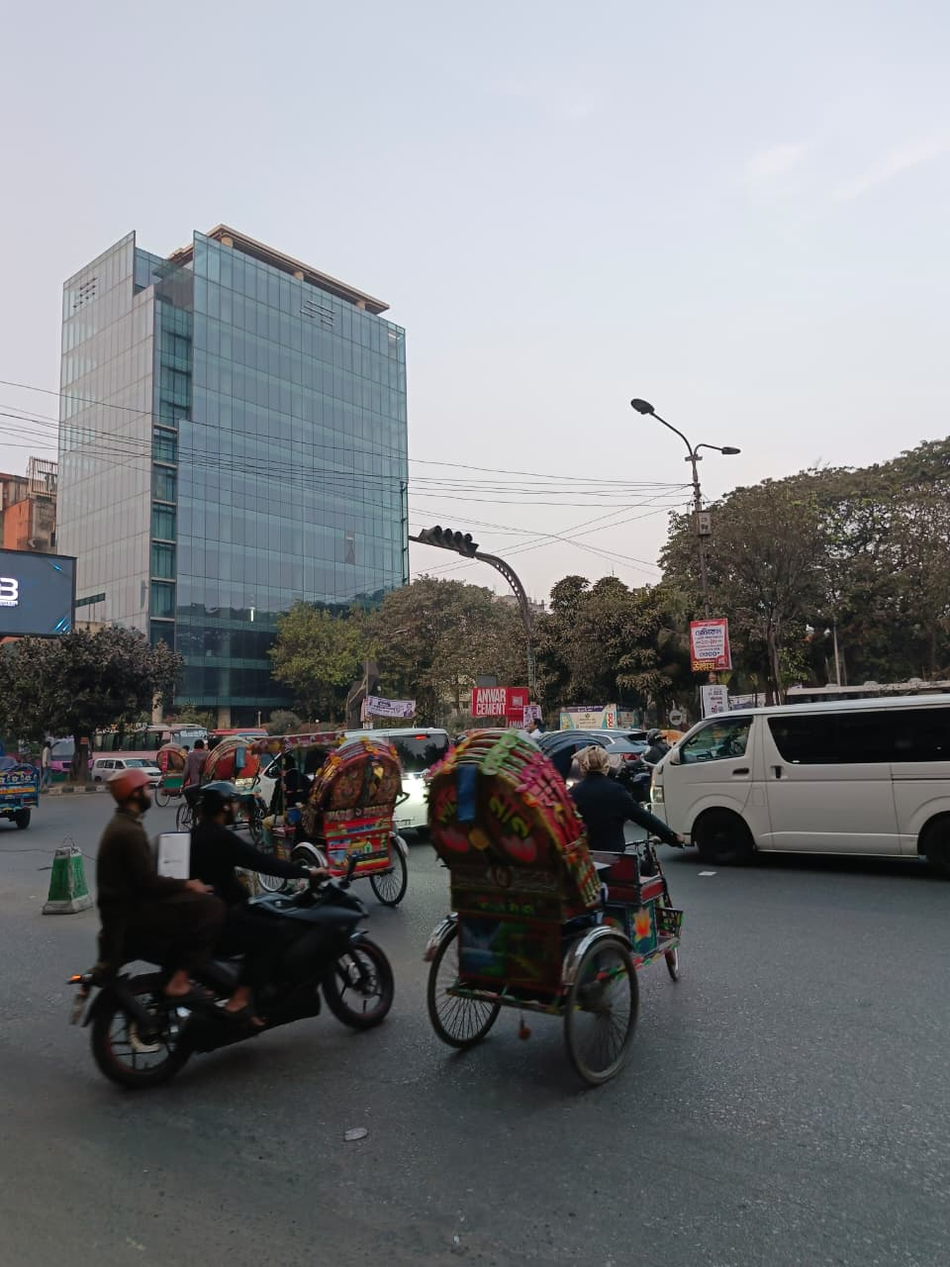Bikes: (67, 775, 435, 1107)
auto-ricksaw: (423, 738, 742, 1042), (228, 713, 447, 908)
private car: (648, 703, 950, 929)
